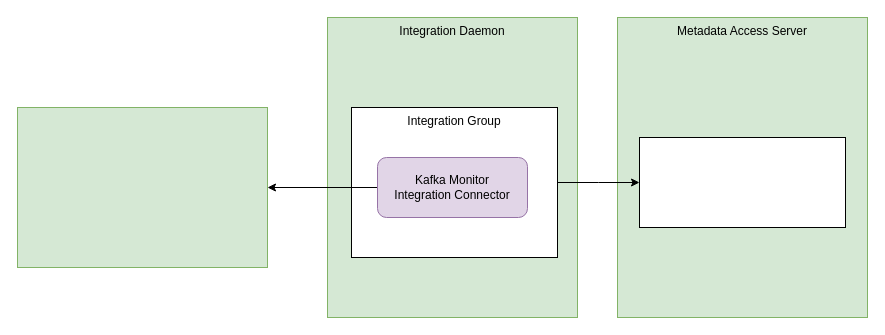
Image size: 885x335. Some labels were removed from this diagram. Here are the shapes that lost their labels. From the top down, the centre of each, then its label:
At (x=142, y=187): "Apache Kafka Server".
At (x=742, y=182): "Open Metadata Framework Service".
